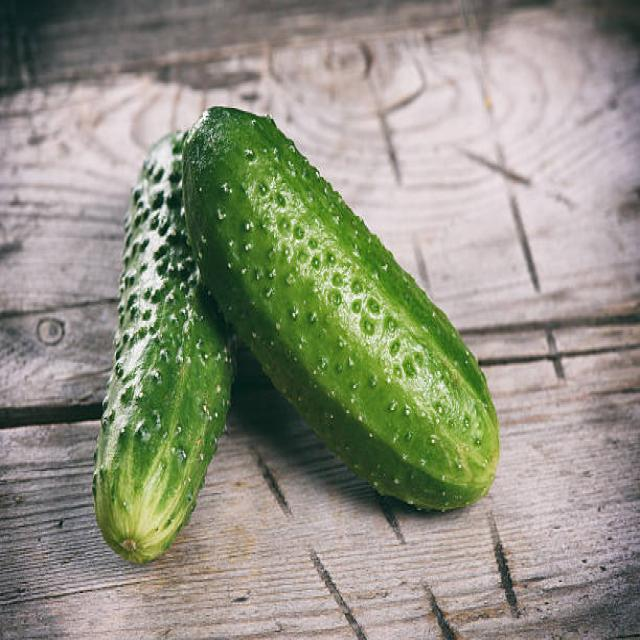cucumber: (183, 107, 500, 513), (92, 131, 234, 554)
